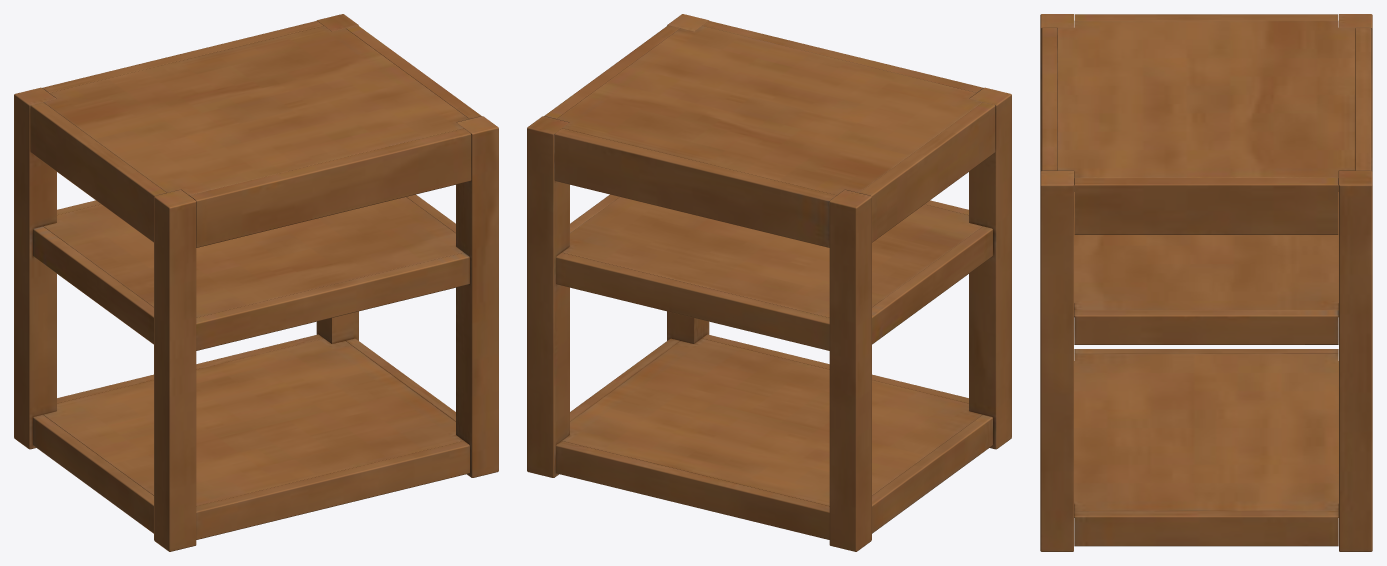
Rendered from nightstand.glb.
3 renders of one model, left to right at view 1: azimuth 30°, elevation 25°; view 2: azimuth 150°, elevation 25°; view 3: azimuth 270°, elevation 25°, orthographic. The views are drawn at different scales.
Visible parts, largest first — view 1: side_table_01; view 2: side_table_01; view 3: side_table_01.
Boxes of the visible parts, x1,y1,x2,y2 form: side_table_01: (14, 14, 498, 551); side_table_01: (527, 14, 1011, 551); side_table_01: (1040, 14, 1372, 551).
Bounding box in the file's own units: 0.55 × 0.5507 × 0.45.
Materials: 1 (1 with a texture image).
